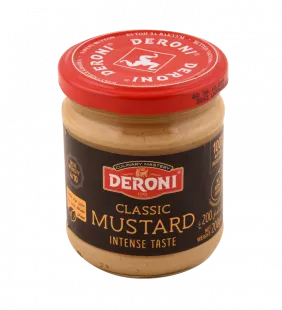Promotion: (52, 20, 236, 284)
